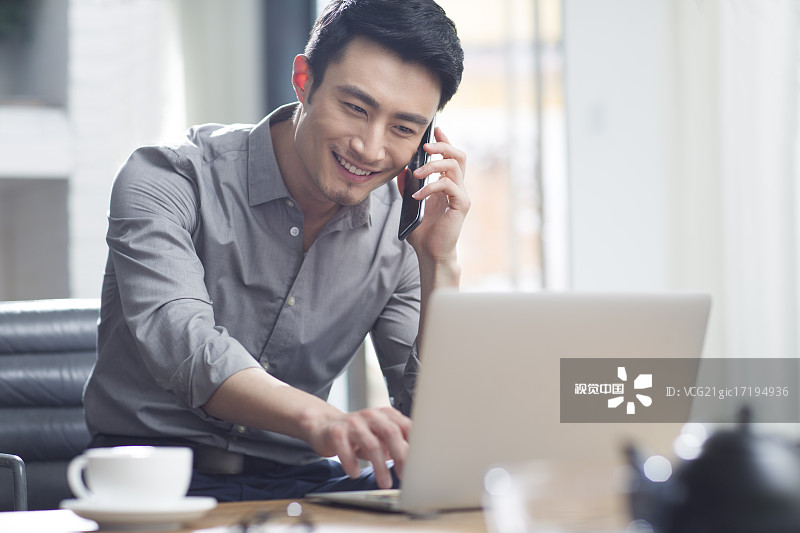calling: (389, 116, 495, 274)
